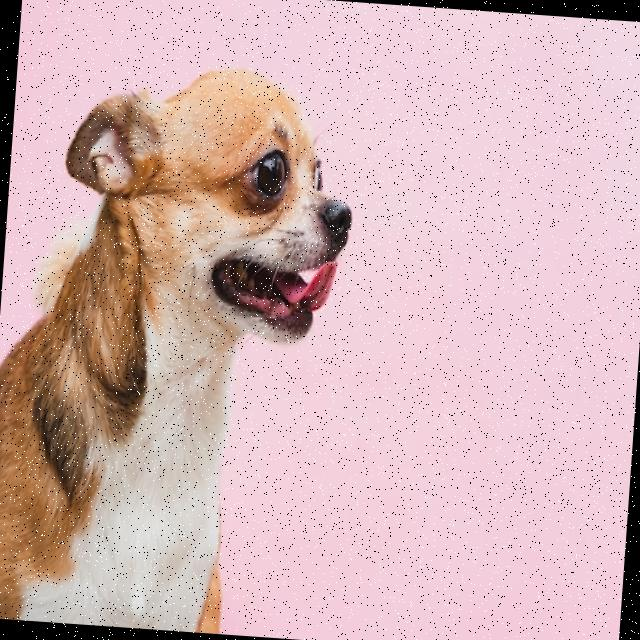Dog: (0, 51, 361, 640)
